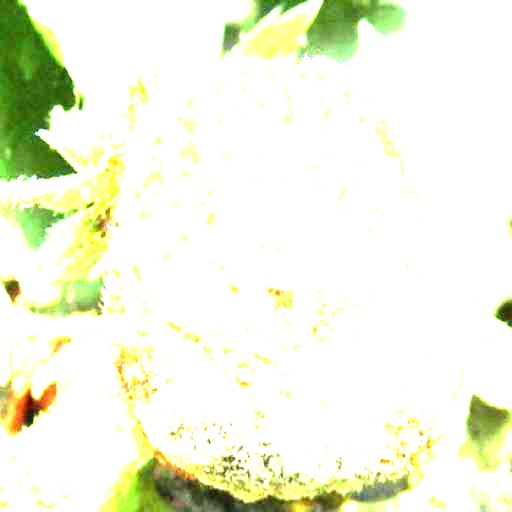Gray Mold: (103, 58, 461, 502)
